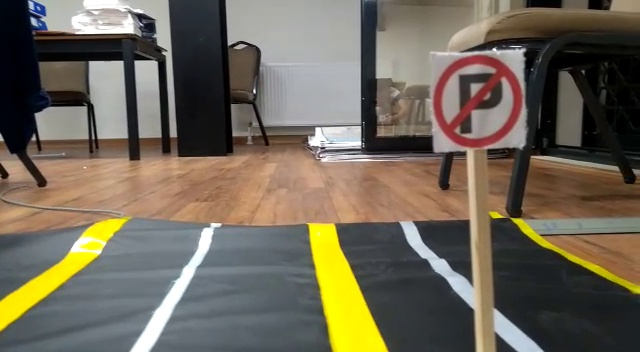park_yapilmaz: (428, 48, 525, 144)
